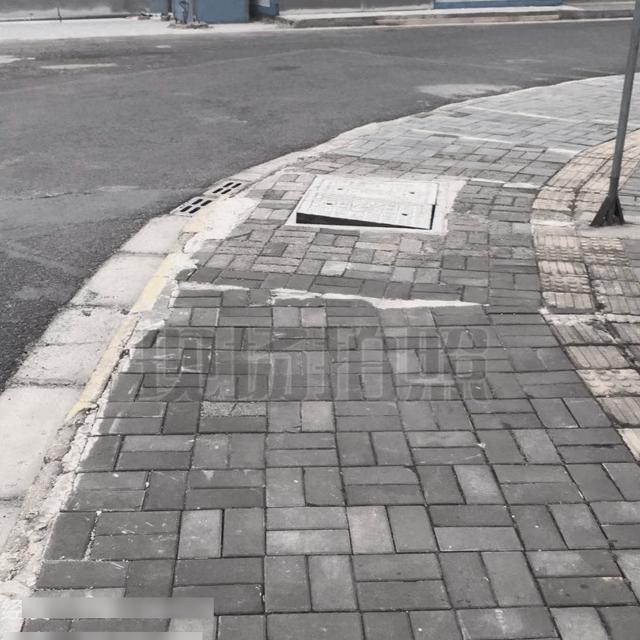uncovered: (280, 174, 451, 234)
